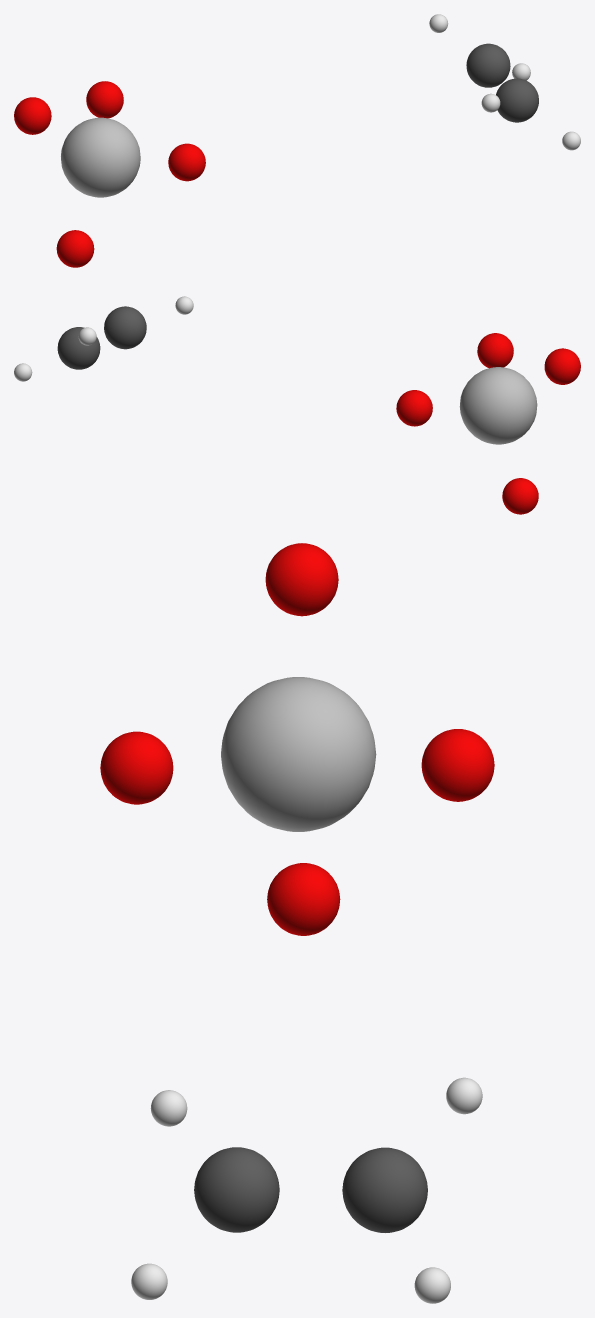
Rendered from OsmiumTetroxide_Ethylene.fbx.
The picture shows the model from 3 angles, top to bottom: view 1: azimuth 30°, elevation 25°; view 2: azimuth 150°, elevation 25°; view 3: azimuth 270°, elevation 25°; orthographic projection. The views are drawn at different scales.
Visible parts, largest first — view 1: Os01, C07, C06, O02, O03, O04, O05; view 2: Os01, C06, C07, O05, O04, O03, O02; view 3: Os01, C07, C06, O03, O05, O02, O04, H11, H08, H10, H09.
Boxes of the visible parts, x1,y1,x2,y2 form: Os01: (61, 117, 140, 197); C07: (466, 43, 510, 87); C06: (496, 78, 538, 122); O02: (168, 143, 205, 181); O03: (14, 97, 51, 134); O04: (56, 230, 94, 267); O05: (86, 81, 123, 118); Os01: (459, 367, 537, 444); C06: (104, 306, 146, 349); C07: (57, 327, 100, 369); O05: (396, 390, 432, 426); O04: (502, 478, 538, 514); O03: (544, 348, 580, 384); O02: (477, 333, 513, 368); Os01: (221, 677, 376, 831); C07: (342, 1147, 427, 1232); C06: (194, 1147, 279, 1232); O03: (265, 543, 338, 616); O05: (421, 729, 494, 801); O02: (100, 731, 173, 804); O04: (267, 863, 340, 935); H11: (446, 1077, 482, 1114); H08: (150, 1090, 187, 1126); H10: (414, 1267, 450, 1303); H09: (131, 1263, 167, 1299).
Bounding box in the file's own units: 1073 × 333 × 345.
